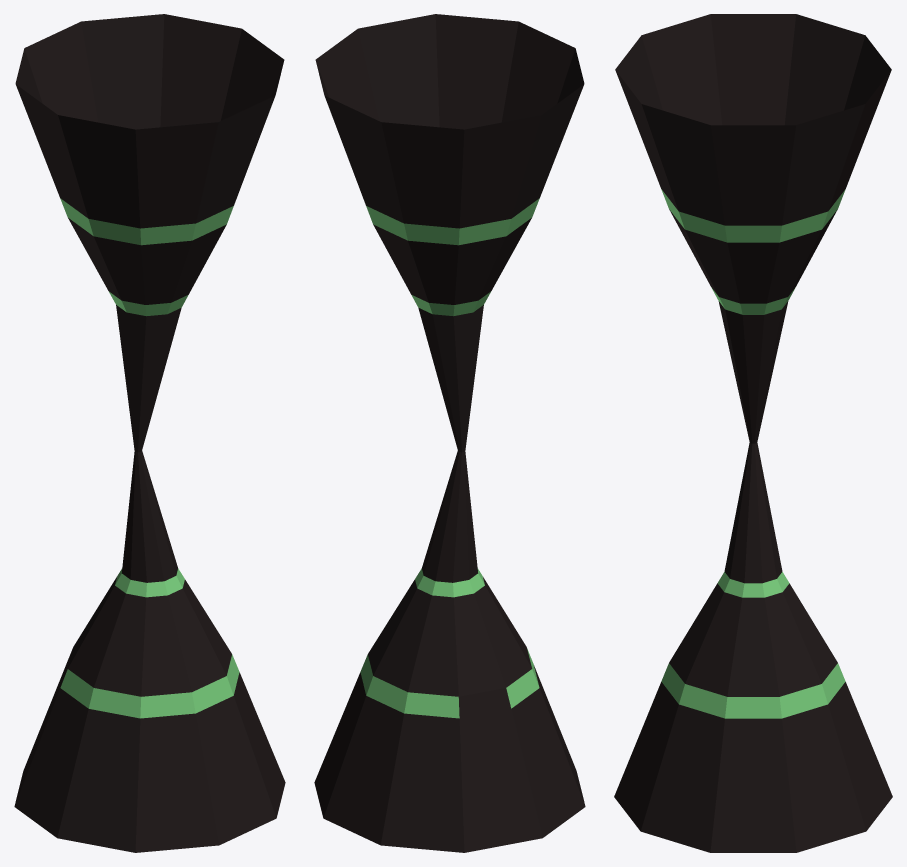
Rendered from Pillar_0.fbx.
3 views of the same model, side by side, from view 1: azimuth 30°, elevation 25°; view 2: azimuth 150°, elevation 25°; view 3: azimuth 270°, elevation 25° (orthographic).
Parts seen in each view (by area): view 1: Pillar_0; view 2: Pillar_0; view 3: Pillar_0.
Boxes of the visible parts, x1=… form: Pillar_0: x1=14, y1=14, x2=285, y2=852; Pillar_0: x1=314, y1=14, x2=585, y2=852; Pillar_0: x1=614, y1=14, x2=892, y2=852.
Size of the model in its own units: 468 by 1417 by 493.
